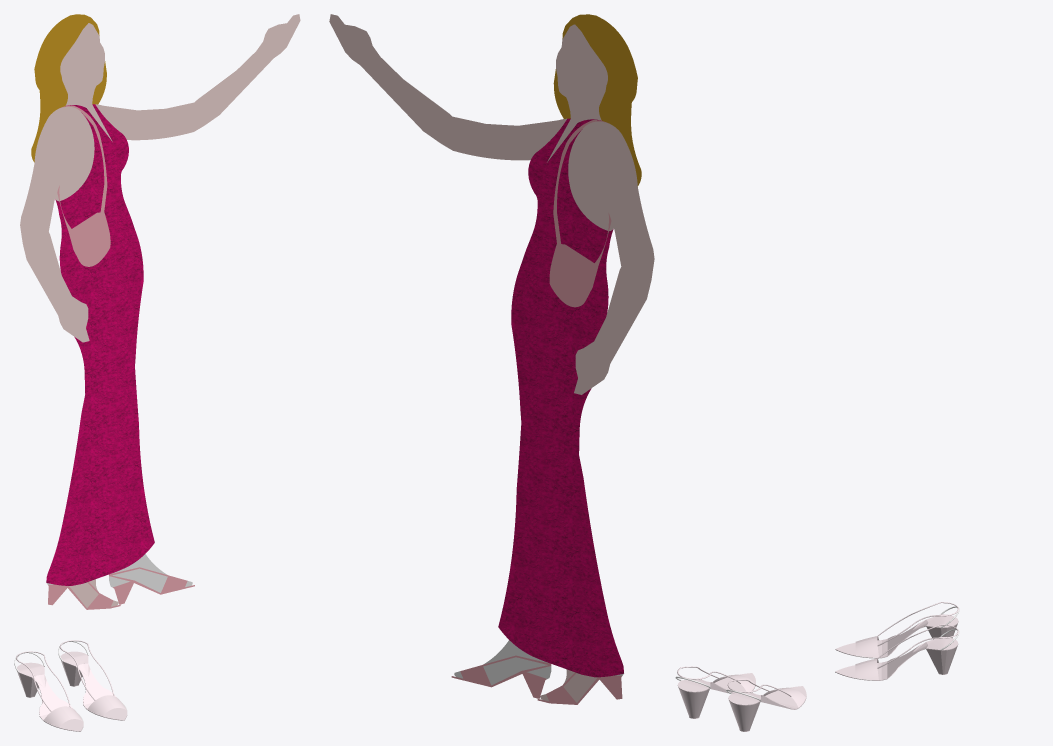
Rendered from heels.obj.
3 views of the same model, side by side, from view 1: azimuth 30°, elevation 25°; view 2: azimuth 150°, elevation 25°; view 3: azimuth 270°, elevation 25° (orthographic). The views are drawn at different scales.
Visible parts, largest first — view 1: Mesh11 Group12 Model, Mesh2 Group4 Group2 Group1 Model, Mesh7 Group9 Group7 Group1 Model, Mesh6 Group8 Group7 Group1 Model, Mesh1 Group3 Group2 Group1 Model; view 2: Mesh11 Group12 Model, Mesh7 Group9 Group7 Group1 Model, Mesh2 Group4 Group2 Group1 Model; view 3: Mesh2 Group4 Group2 Group1 Model, Mesh7 Group9 Group7 Group1 Model, Mesh1 Group3 Group2 Group1 Model, Mesh6 Group8 Group7 Group1 Model.
Boxes of the visible parts, bbox=[...] form: Mesh11 Group12 Model: bbox=[20, 14, 300, 609]; Mesh2 Group4 Group2 Group1 Model: bbox=[60, 651, 127, 720]; Mesh7 Group9 Group7 Group1 Model: bbox=[17, 662, 83, 731]; Mesh6 Group8 Group7 Group1 Model: bbox=[43, 706, 82, 727]; Mesh1 Group3 Group2 Group1 Model: bbox=[87, 695, 126, 716]; Mesh11 Group12 Model: bbox=[329, 14, 654, 704]; Mesh7 Group9 Group7 Group1 Model: bbox=[728, 686, 806, 731]; Mesh2 Group4 Group2 Group1 Model: bbox=[677, 673, 755, 718]; Mesh2 Group4 Group2 Group1 Model: bbox=[835, 637, 958, 680]; Mesh7 Group9 Group7 Group1 Model: bbox=[835, 614, 958, 658]; Mesh1 Group3 Group2 Group1 Model: bbox=[855, 658, 878, 680]; Mesh6 Group8 Group7 Group1 Model: bbox=[855, 636, 878, 657].
Bounding box in the file's own units: 39.73 × 72.03 × 19.61.
6 materials, 1 textured.
